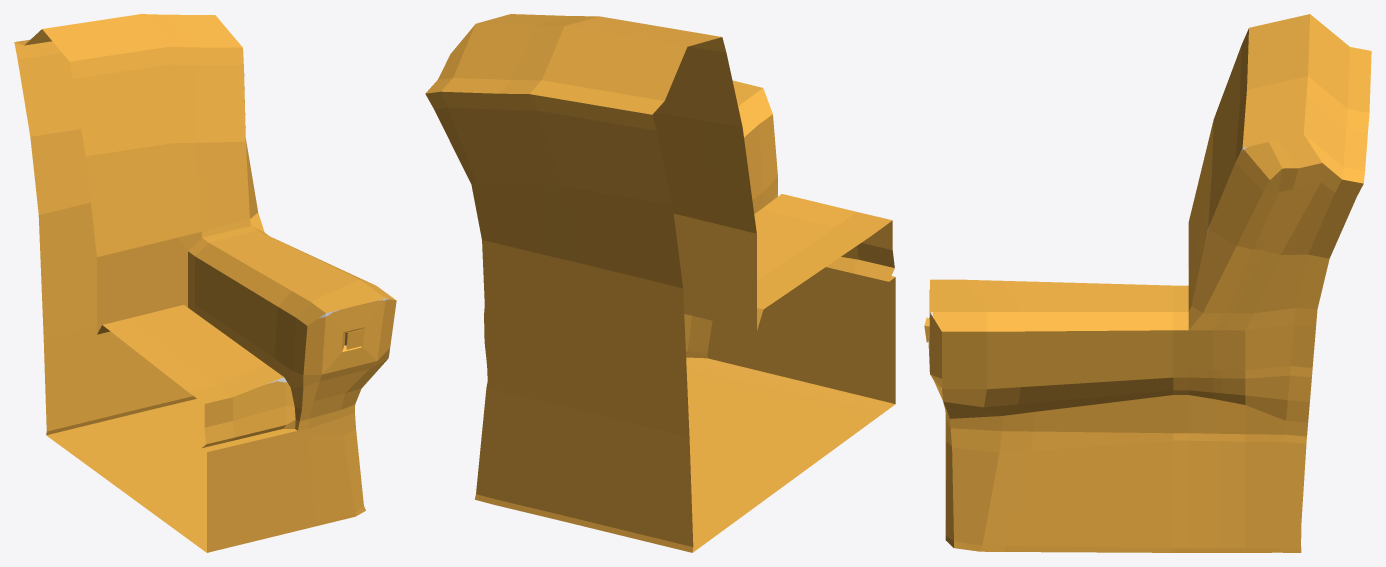
Rendered from chair.glb.
The picture shows the model from 3 angles, left to right: view 1: azimuth 30°, elevation 25°; view 2: azimuth 150°, elevation 25°; view 3: azimuth 270°, elevation 25°; orthographic projection. The views are drawn at different scales.
Visible parts, largest first — view 1: arm chair; view 2: arm chair; view 3: arm chair.
Boxes of the visible parts, x1,y1,x2,y2 form: arm chair: (14,14,396,552); arm chair: (425,14,895,552); arm chair: (924,14,1371,552).
Bounding box in the file's own units: 37.45 × 76.8 × 69.74.
1 material, 1 textured.
